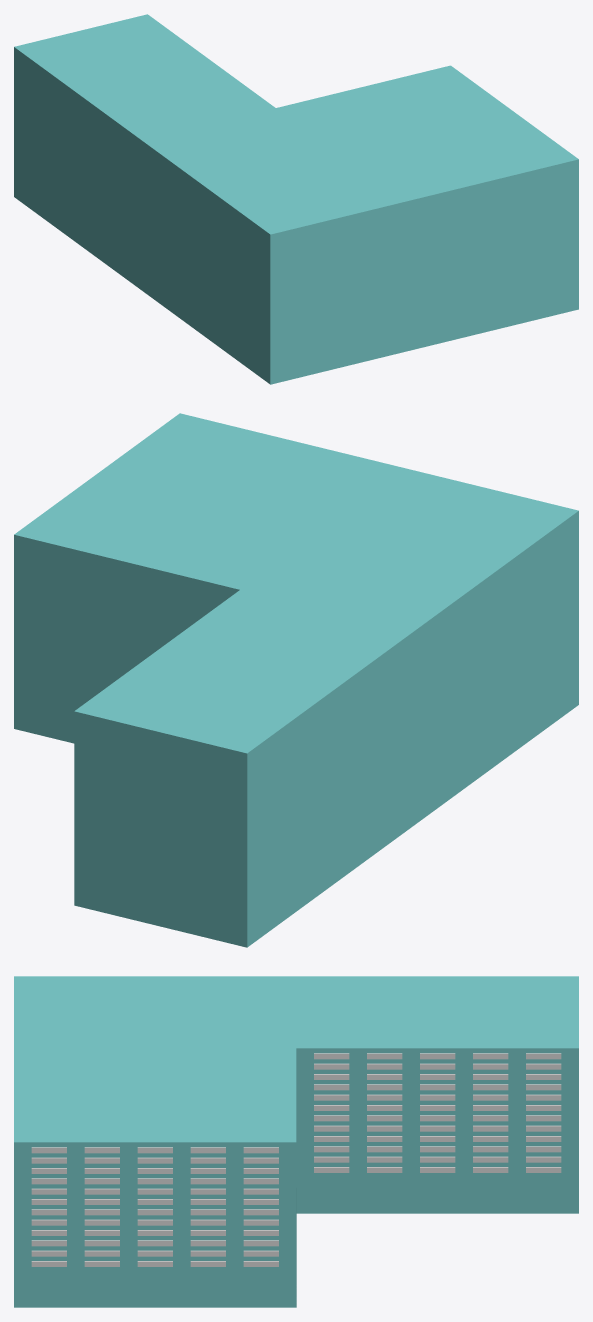
The model's file is predio3.fbx.
3 renders of one model, top to bottom at view 1: azimuth 30°, elevation 25°; view 2: azimuth 150°, elevation 25°; view 3: azimuth 270°, elevation 25°, orthographic. The views are drawn at different scales.
Visible parts, largest first — view 1: Cube; view 2: Cube; view 3: Cube.
Part boxes in pixels (x1,y1,x2,y2): Cube: [14, 14, 578, 384]; Cube: [14, 413, 578, 947]; Cube: [14, 976, 578, 1307].
Size of the model in its own units: 1110 by 514 by 1592.
